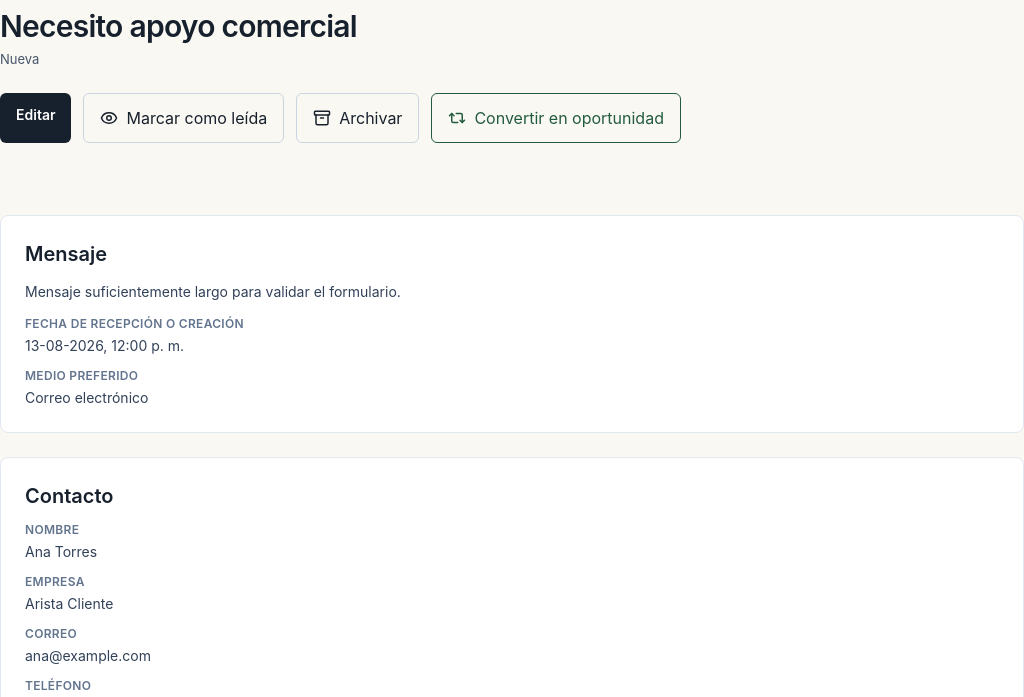
Test: AdminInquiries › keeps inquiry unconverted when atomic conversion fails
Click the button "Convertir en oportunidad": point(556, 118) [431, 93, 681, 143]
(page scrolled)
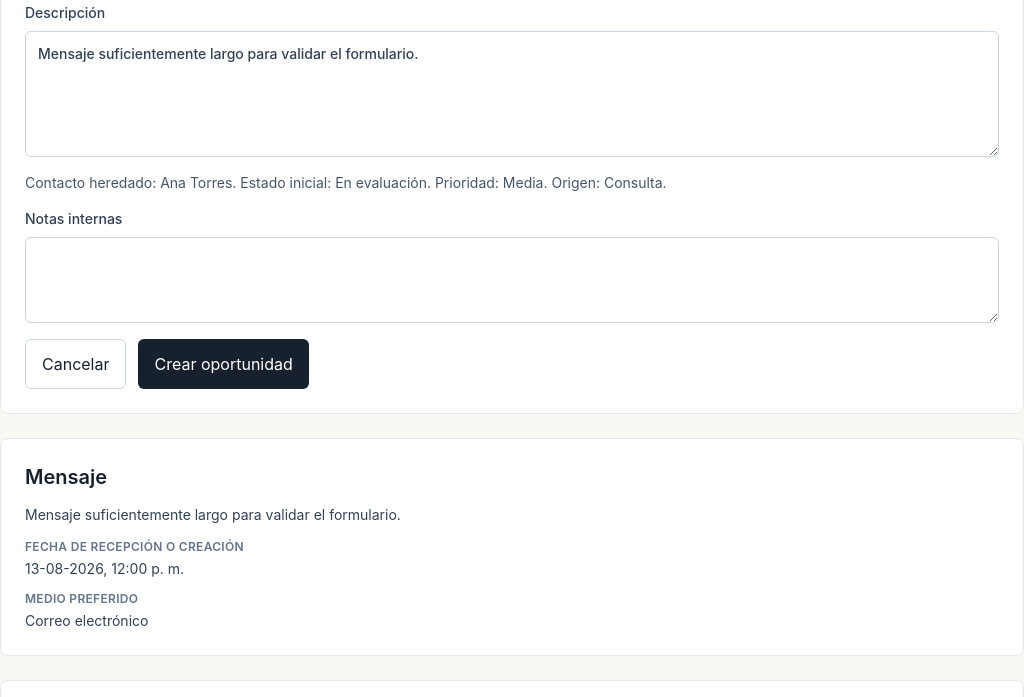
Click the button "Crear oportunidad": point(224, 364) [138, 339, 309, 389]
(page scrolled)
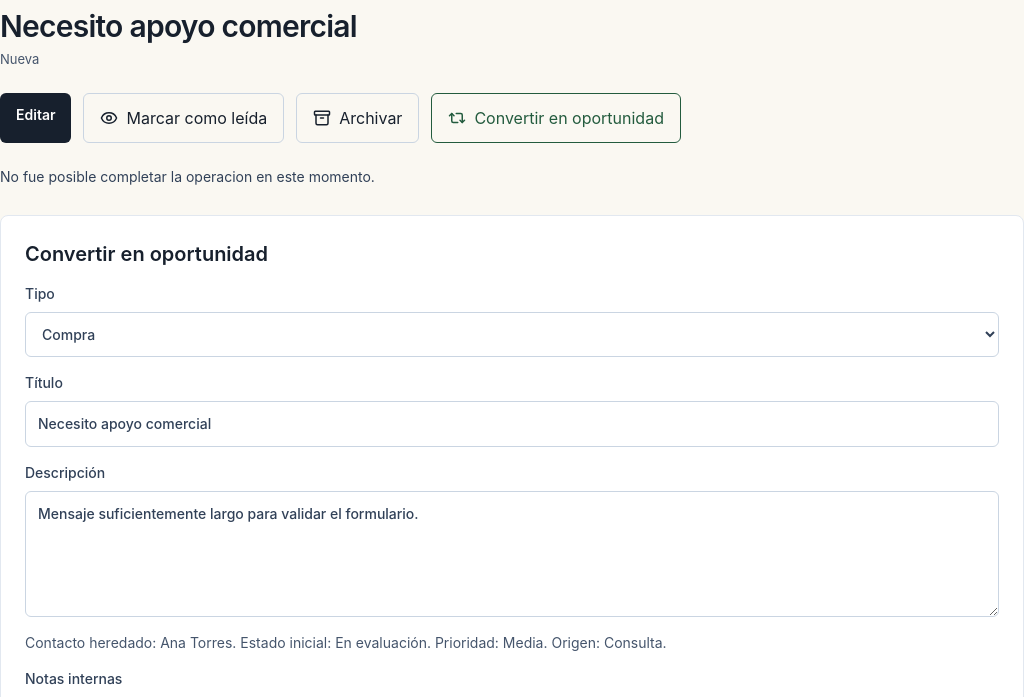
Check: the button "Convertir en oportunidad" is shown, box [431, 93, 681, 143]
Check: the text "No fue posible completar la operacion en este momento." is shown, box [0, 168, 375, 185]
